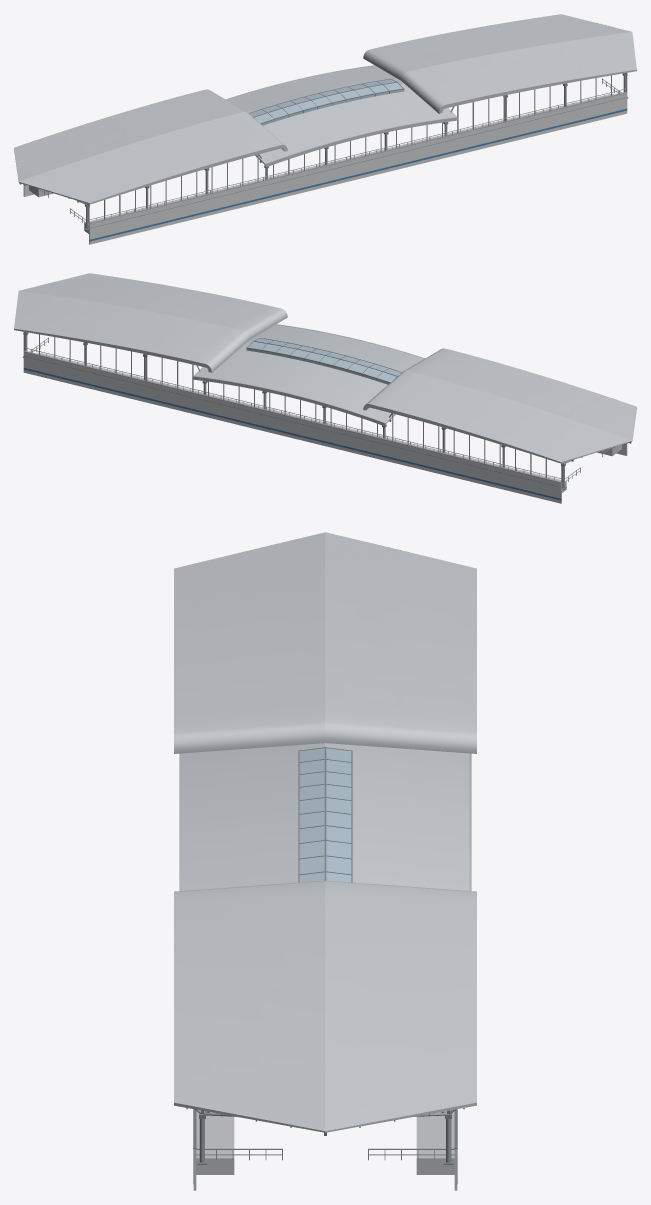
3 views of the same model, one above another, from view 1: azimuth 30°, elevation 25°; view 2: azimuth 150°, elevation 25°; view 3: azimuth 270°, elevation 25° (orthographic). The views are drawn at different scales.
Parts seen in each view (by area): view 1: BL35; view 2: BL35; view 3: BL35.
Boxes of the visible parts, x1=… form: BL35: x1=14, y1=14, x2=636, y2=244; BL35: x1=14, y1=273, x2=636, y2=503; BL35: x1=174, y1=532, x2=476, y2=1190.
Bounding box in the file's own units: 129 × 12.7 × 27.6.
